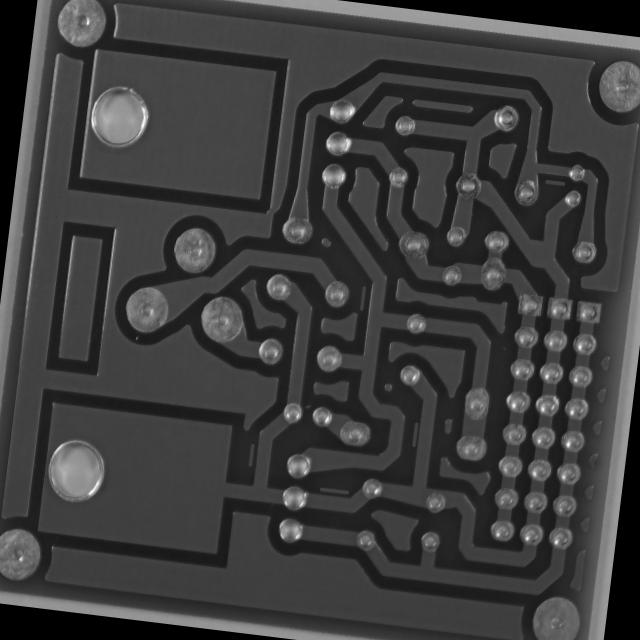spurious_copper: (404, 413, 425, 453), (352, 277, 374, 315), (316, 480, 352, 502), (240, 436, 260, 472), (540, 172, 570, 194)
